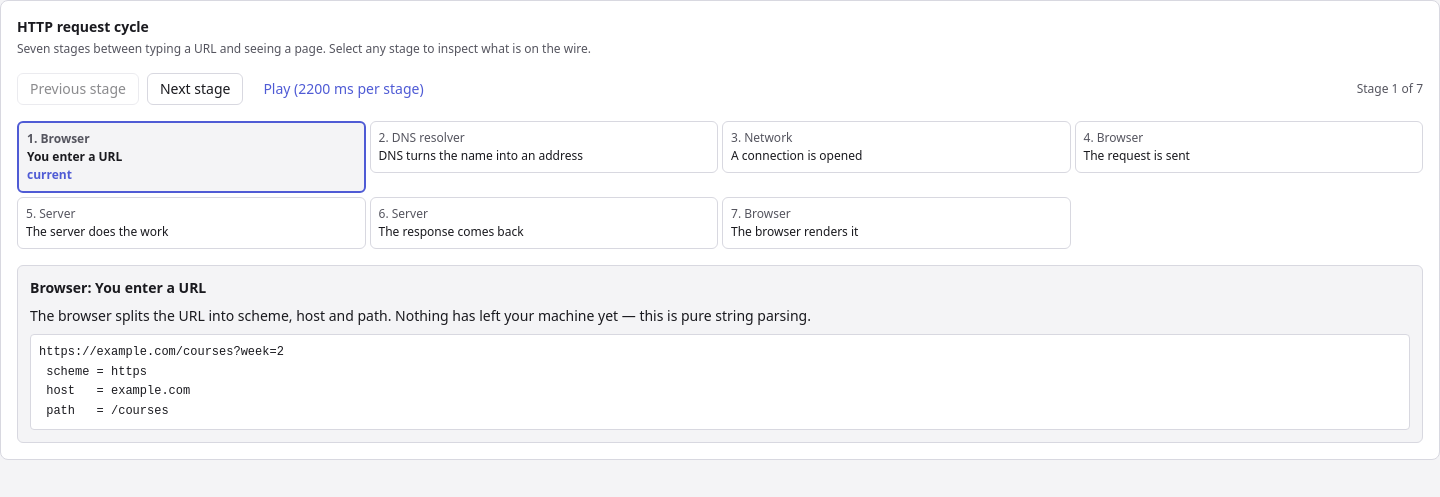
Test case: HTTPCycleDiagram › lets any stage be selected directly, so nothing is gated behind a sequence
What coordinates should you click on to do the following:
click the button "6. Server The response comes back"
I would click on:
 (410, 214)
Its box is [370,197,718,249].
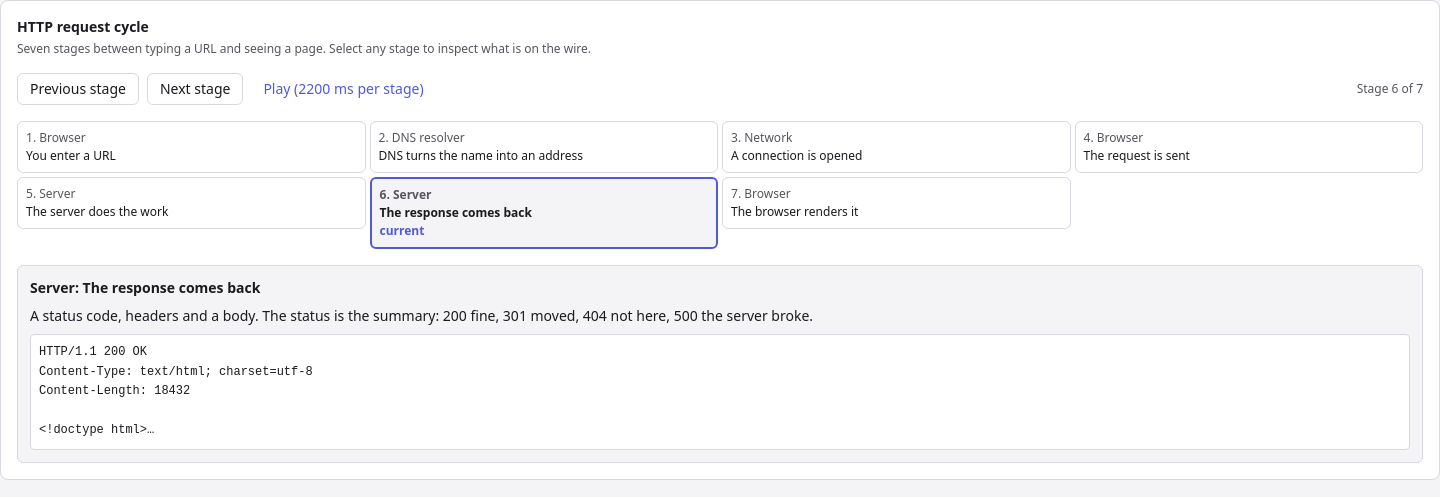
Check: the element with test id "http-cycle-detail" shows "200 fine", box [30,306,813,325]
